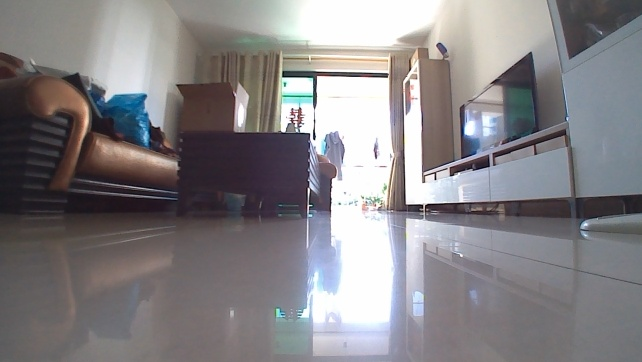TV_stand: (412, 120, 576, 216)
sofa1: (0, 49, 177, 219)
tea_table: (174, 124, 335, 220)
